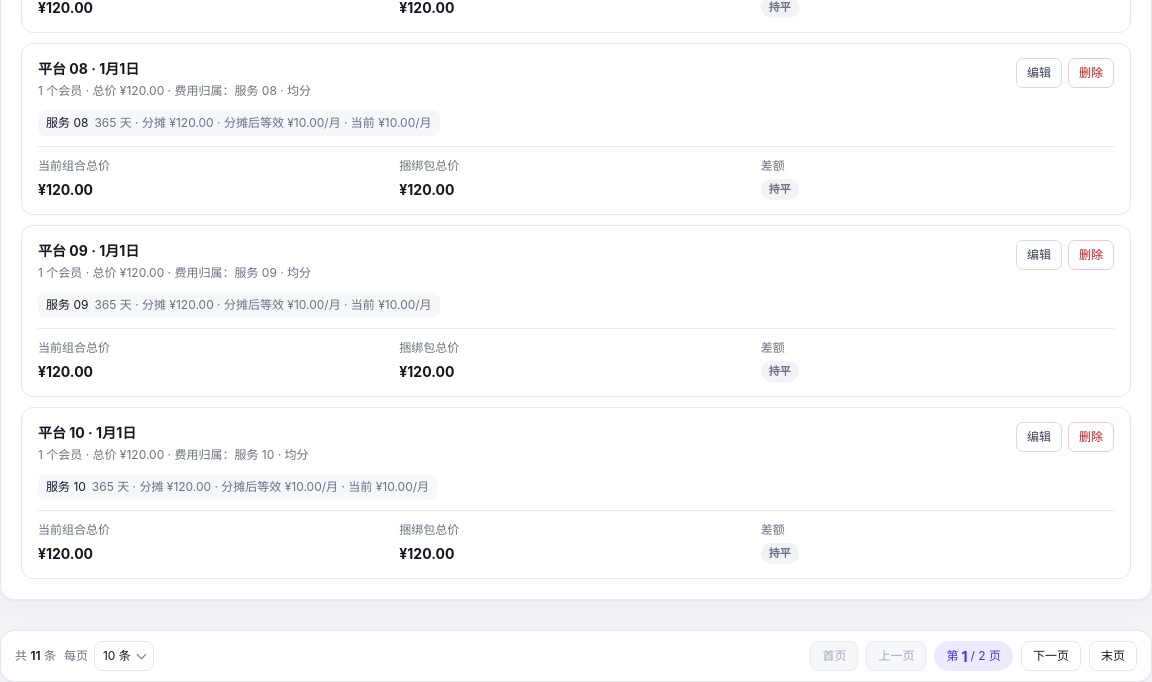
Compare › keeps joint and member pagination independent
The width and height of the screenshot is (1152, 682).
(page scrolled)
Click the button "下一页": click(1051, 656) [1021,641,1081,671]
(page scrolled)
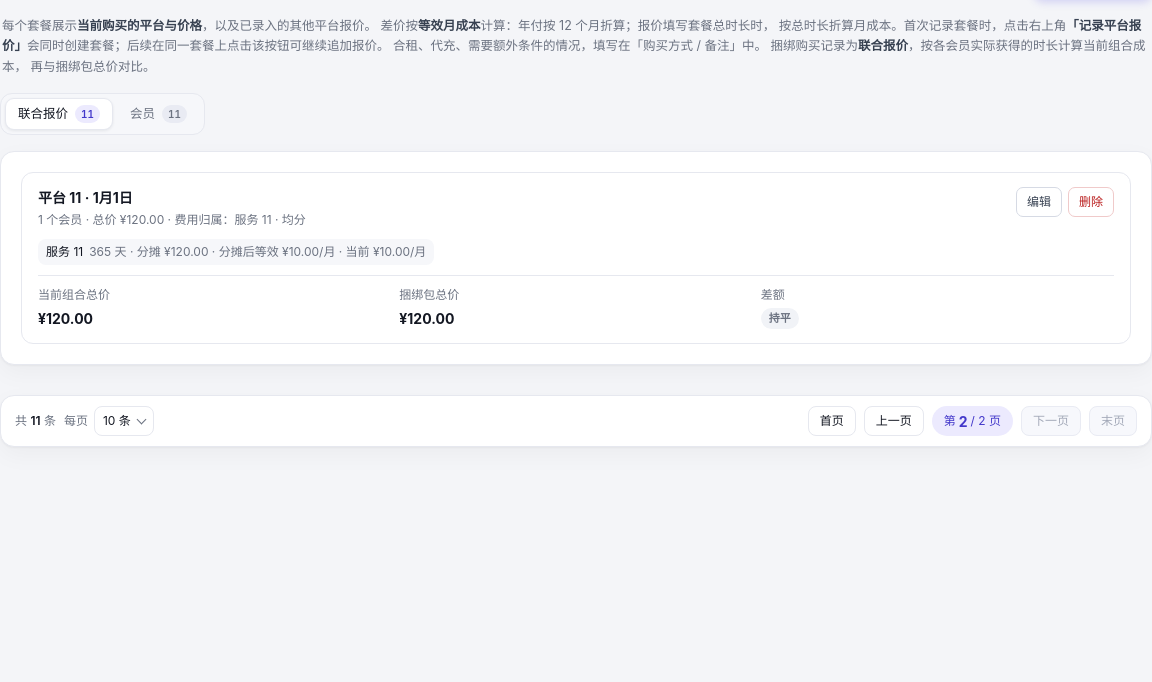
Expected: the number of elements with class "joint-quote-card" is 1, [21,172,1131,344]
Expected: the element showing "第 2 / 2 页" is shown, [932,406,1013,436]
Click the tab "会员 11": click(158, 114) [117,98,200,130]
(page scrolled)
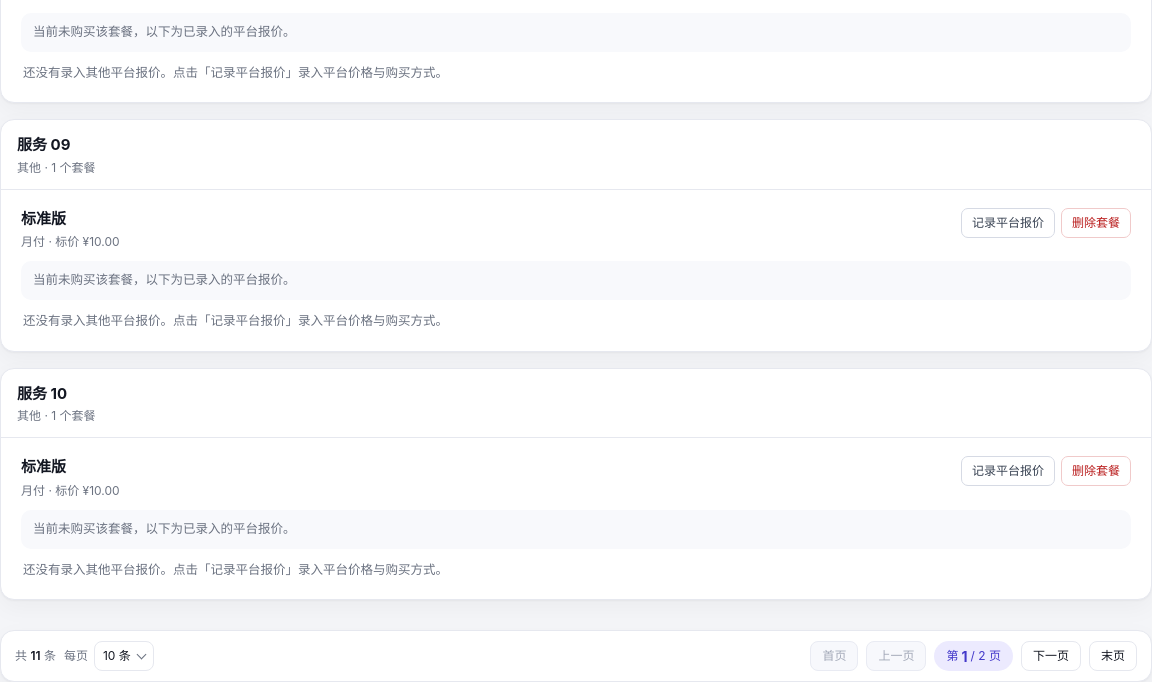
Expected: the element showing "第 1 / 2 页" is shown, [934,641,1013,671]
Click the button "下一页": click(1051, 656) [1021,641,1081,671]
(page scrolled)
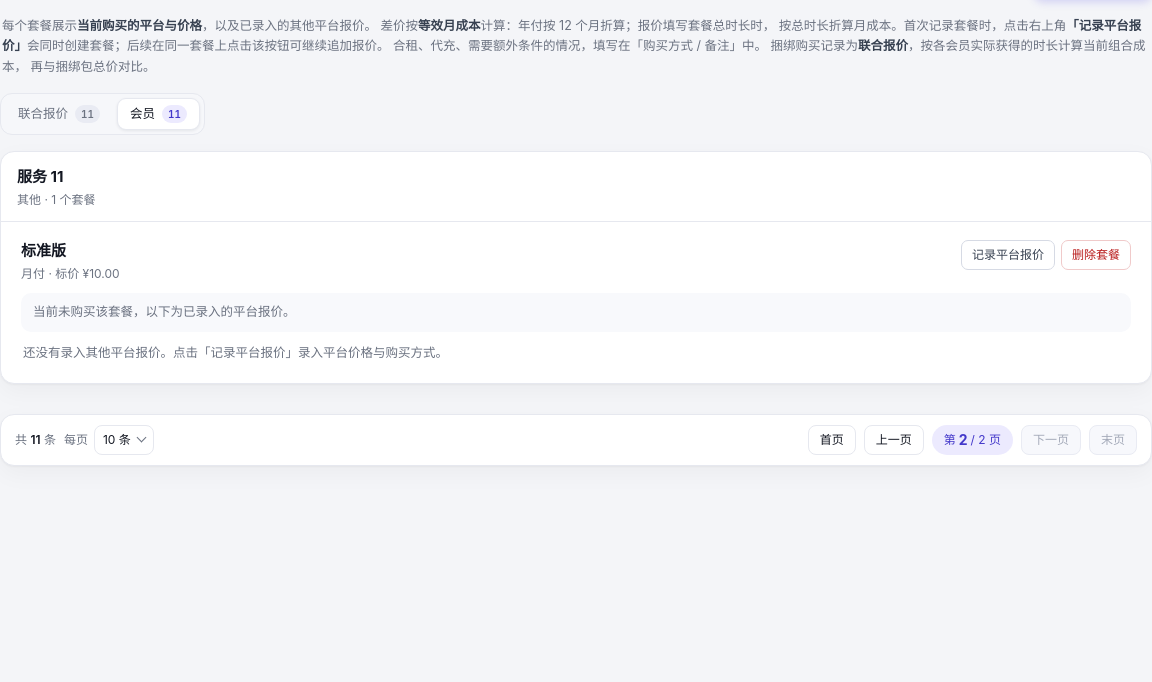
Expected: the number of elements with class "compare-card" is 1, [0,151,1151,384]
Expected: the element showing "第 2 / 2 页" is shown, [932,425,1013,455]
Click the tab "联合报价 11": click(59, 114) [5,98,113,130]
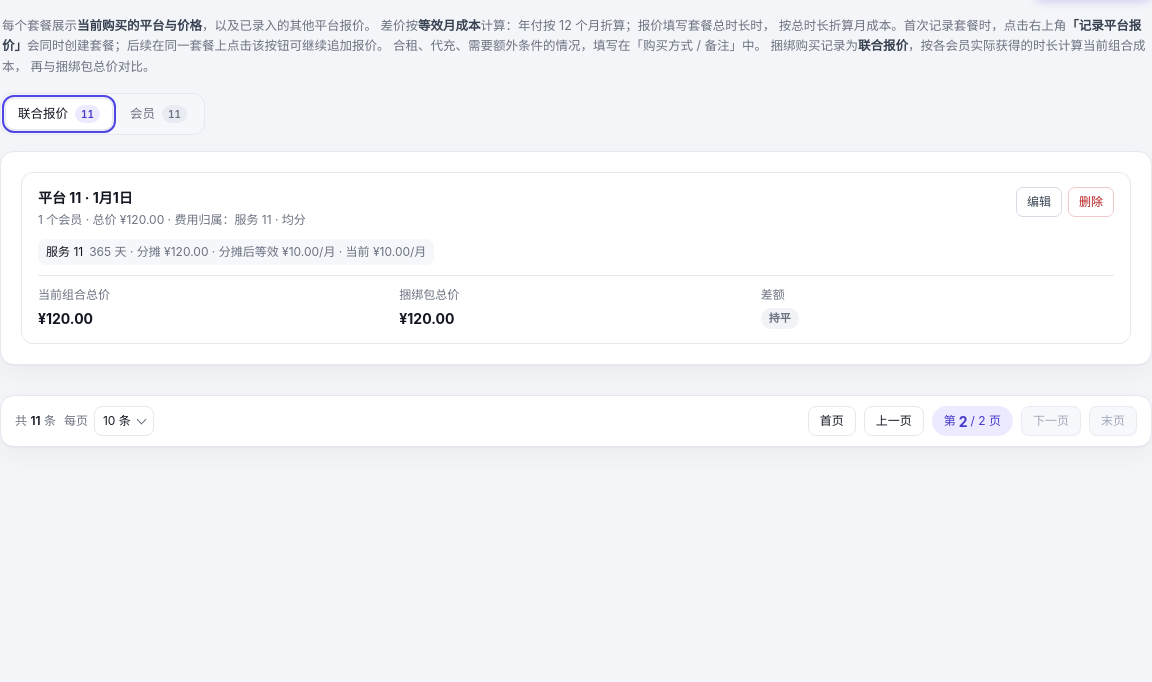
Expected: the element showing "第 2 / 2 页" is shown, [932,406,1013,436]
Expected: the number of elements with class "joint-quote-card" is 1, [21,172,1131,344]
